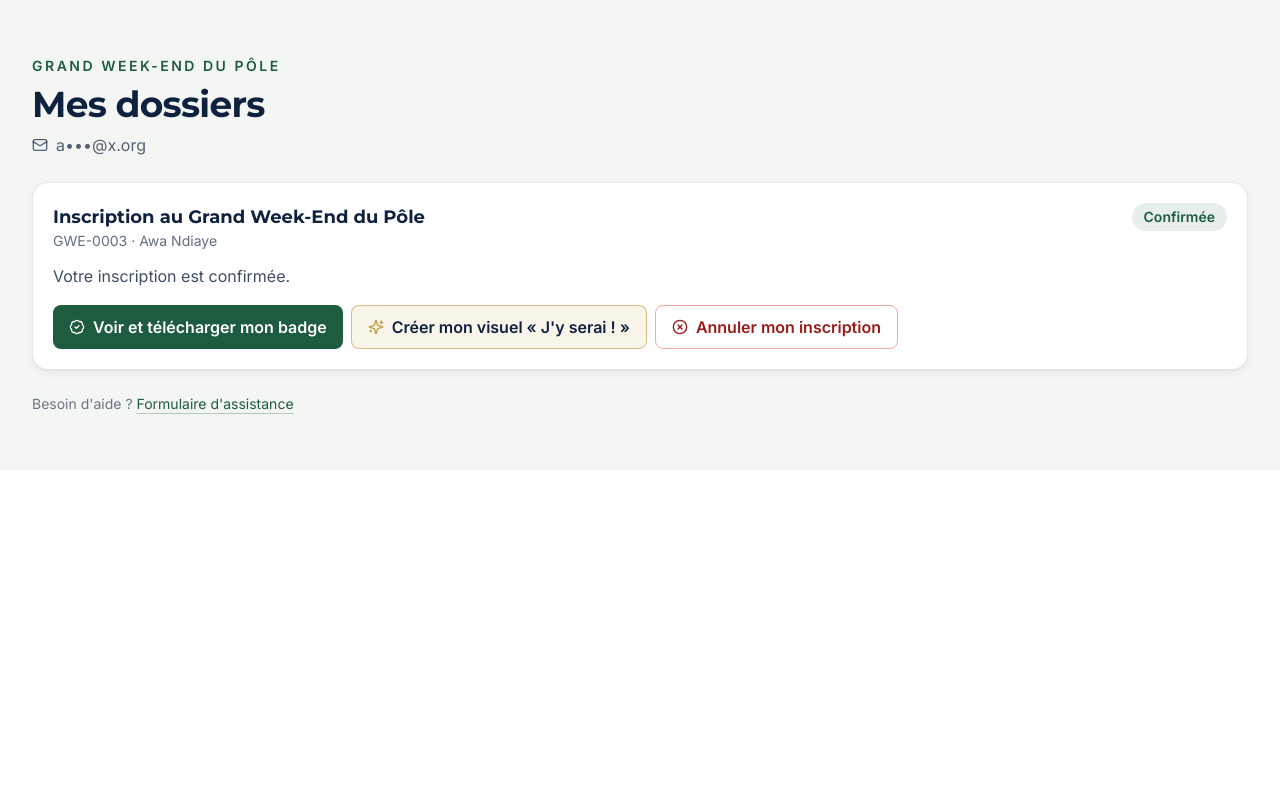
Test: Suivi des dossiers sans compte › affiche les dossiers, le badge et permet d'annuler
Check: the text "GWE-0003 · Awa Ndiaye" is shown, box [53,232,217,249]
Step 1. Click the button "Annuler mon inscription" → x=776, y=327, box [655,305,898,349]
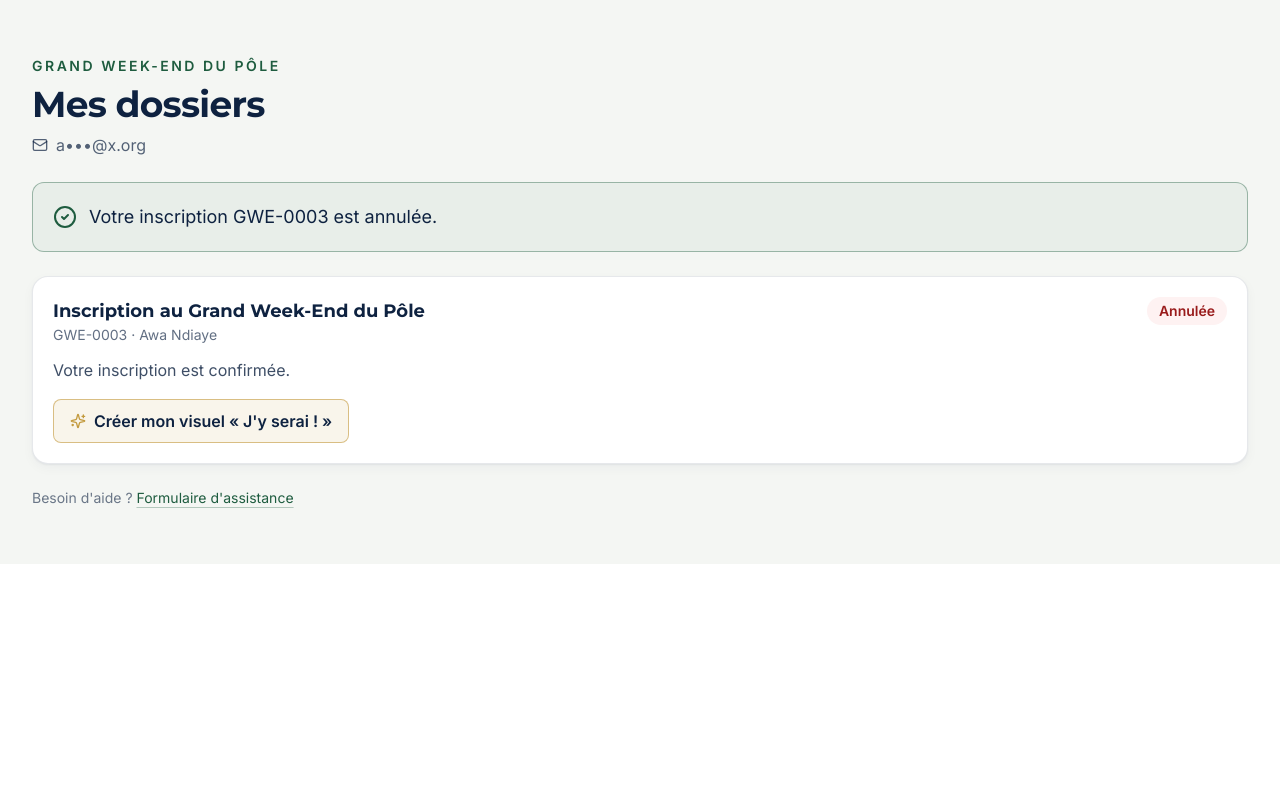
Check: the text "Annulée" is shown, box [1147,297,1227,325]
Check: the link "Voir et télécharger mon badge" is gone
